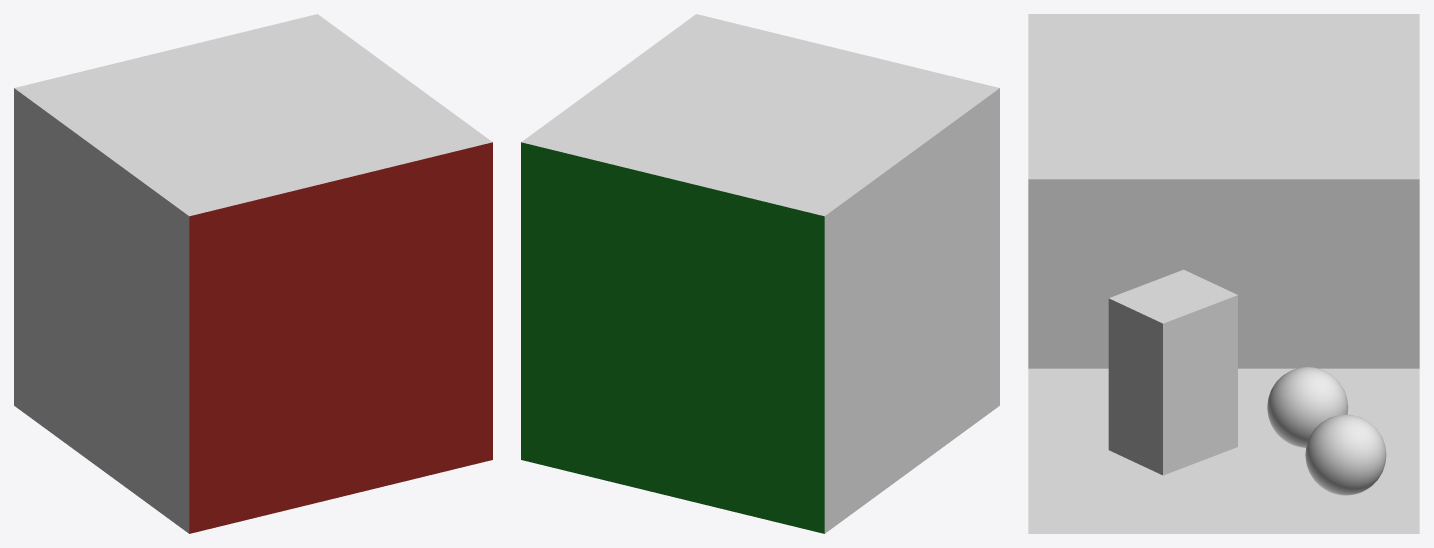
3 views of the same model, side by side, from view 1: azimuth 30°, elevation 25°; view 2: azimuth 150°, elevation 25°; view 3: azimuth 270°, elevation 25° (orthographic). The views are drawn at different scales.
Parts seen in each view (by area): view 1: Cube; view 2: Cube; view 3: Cube, Cube.001, Sphere, Sphere.001.
Boxes of the visible parts, left/top/right/bottom form: Cube: left=14, top=14, right=492, bottom=533; Cube: left=521, top=14, right=999, bottom=533; Cube: left=1028, top=14, right=1419, bottom=533; Cube.001: left=1108, top=269, right=1237, bottom=475; Sphere: left=1305, top=414, right=1386, bottom=495; Sphere.001: left=1267, top=367, right=1348, bottom=447.
Bounding box in the file's own units: 9.65 × 9.65 × 9.69.
